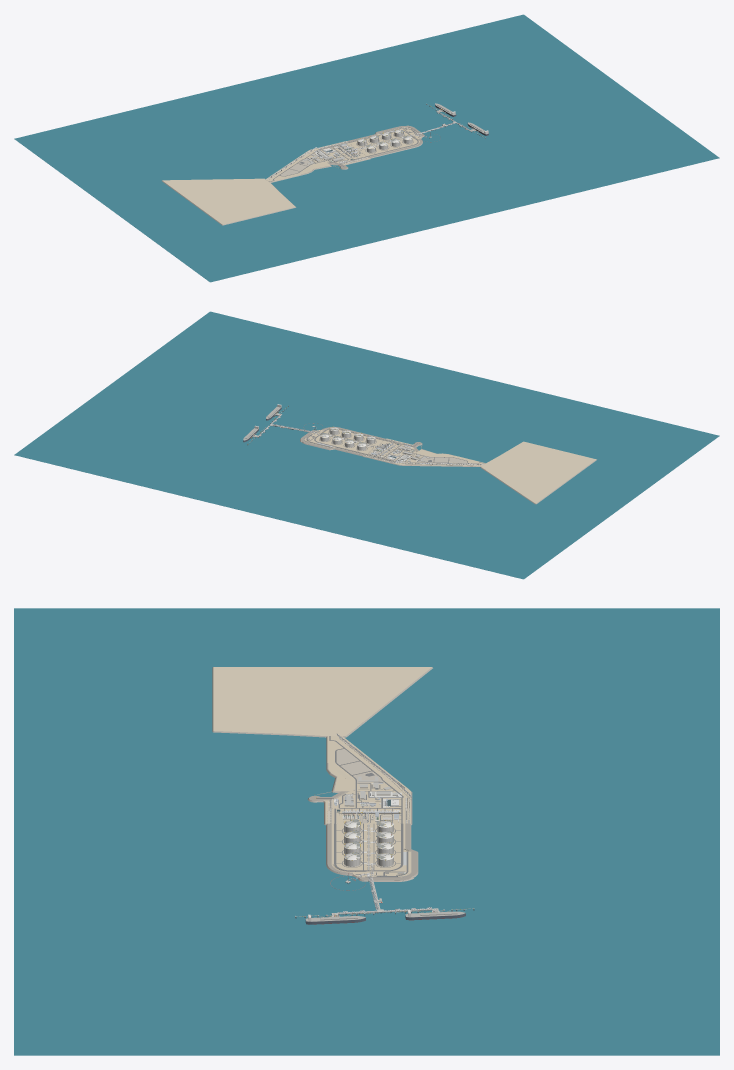
Rendered from site.glb.
3 views of the same model, one above another, from view 1: azimuth 30°, elevation 25°; view 2: azimuth 150°, elevation 25°; view 3: azimuth 270°, elevation 25° (orthographic). The views are drawn at different scales.
Visible parts, largest first — view 1: Sea, Mainland, Land_Platform; view 2: Sea, Mainland, Land_Platform; view 3: Sea, Mainland, Land_Platform.
Boxes of the visible parts, x1,y1,x2,y2 form: Sea: (14,14,719,282); Mainland: (162,178,296,225); Land_Platform: (266,127,424,182); Sea: (14,311,719,579); Mainland: (480,441,596,504); Land_Platform: (300,428,485,466); Sea: (14,608,719,1055); Mainland: (212,667,432,737); Land_Platform: (307,736,418,881).
Size of the model in its own units: 6000 by 73.19 by 4000.
